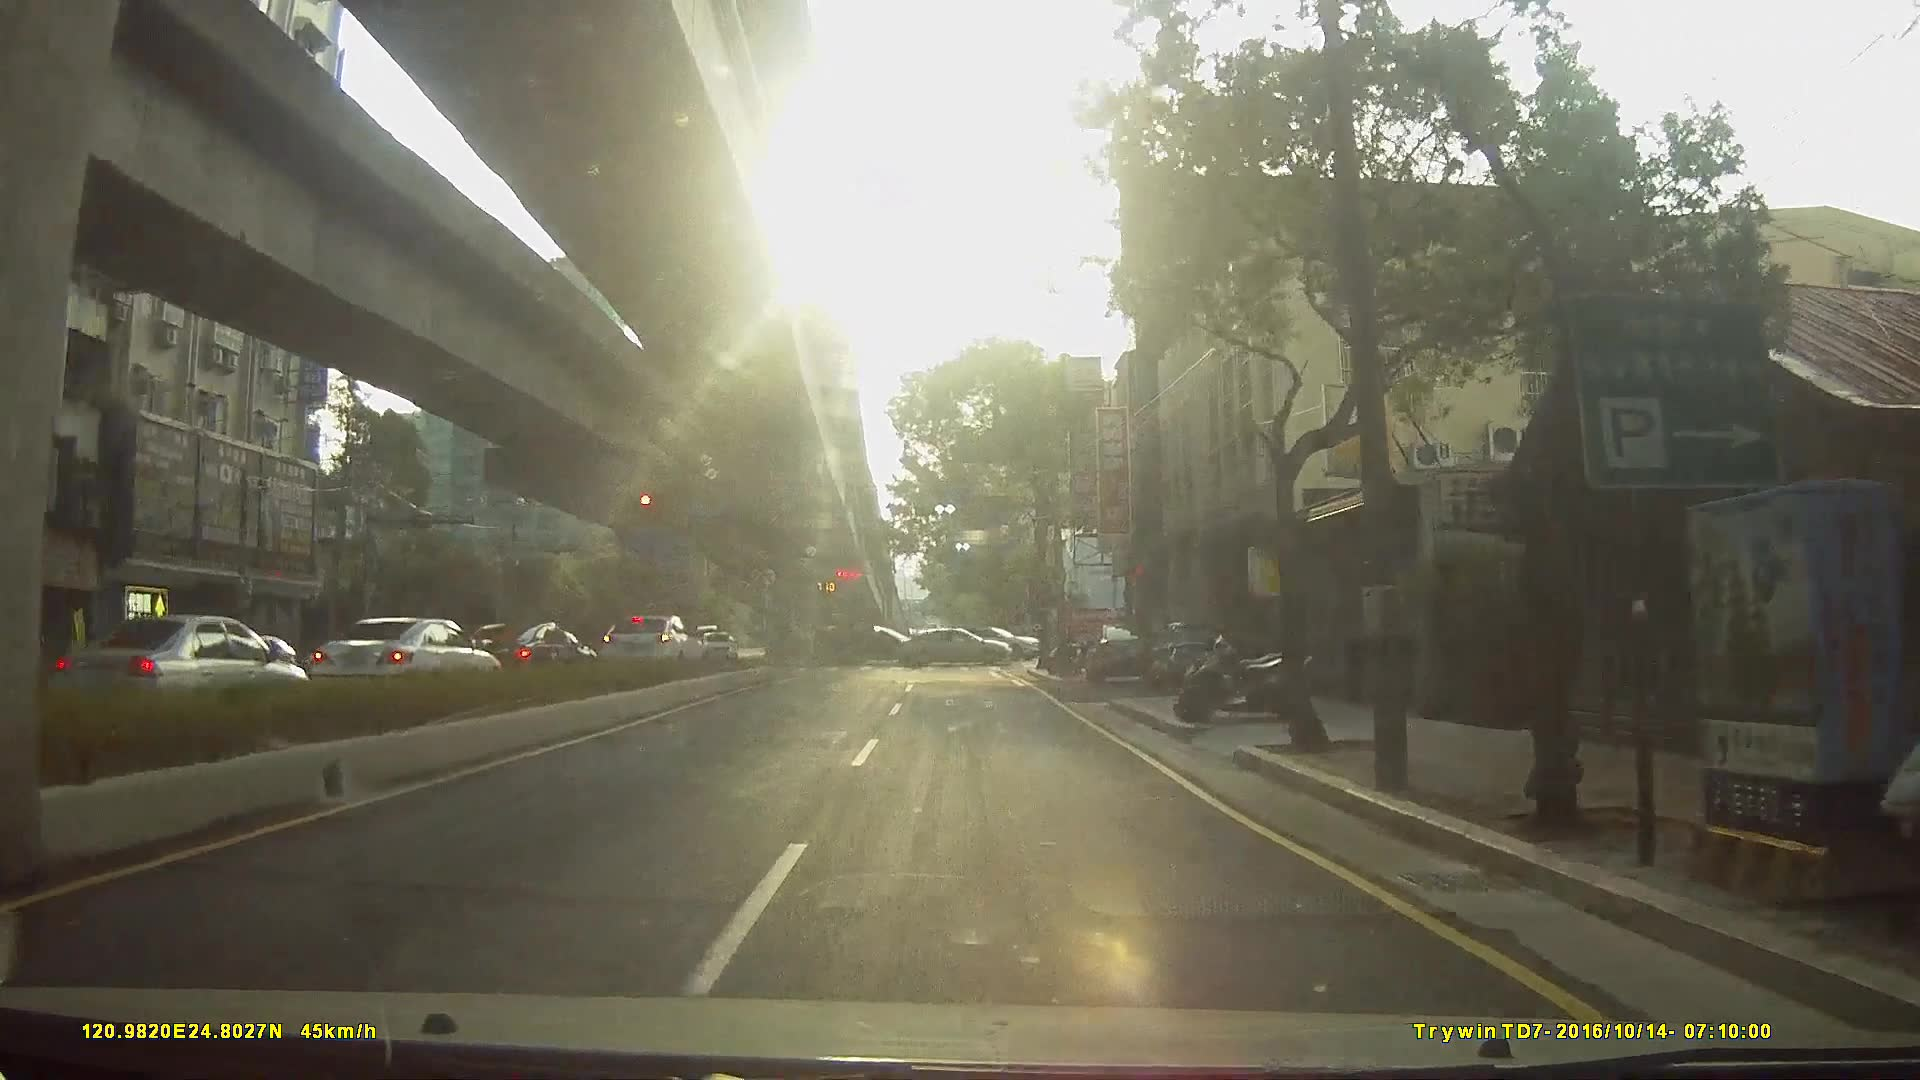vehicle: (41, 613, 309, 723), (301, 613, 498, 700), (448, 616, 593, 682), (595, 612, 708, 673), (1149, 618, 1237, 694), (1084, 617, 1166, 683), (899, 625, 1019, 666), (837, 622, 927, 666), (696, 626, 735, 661)
